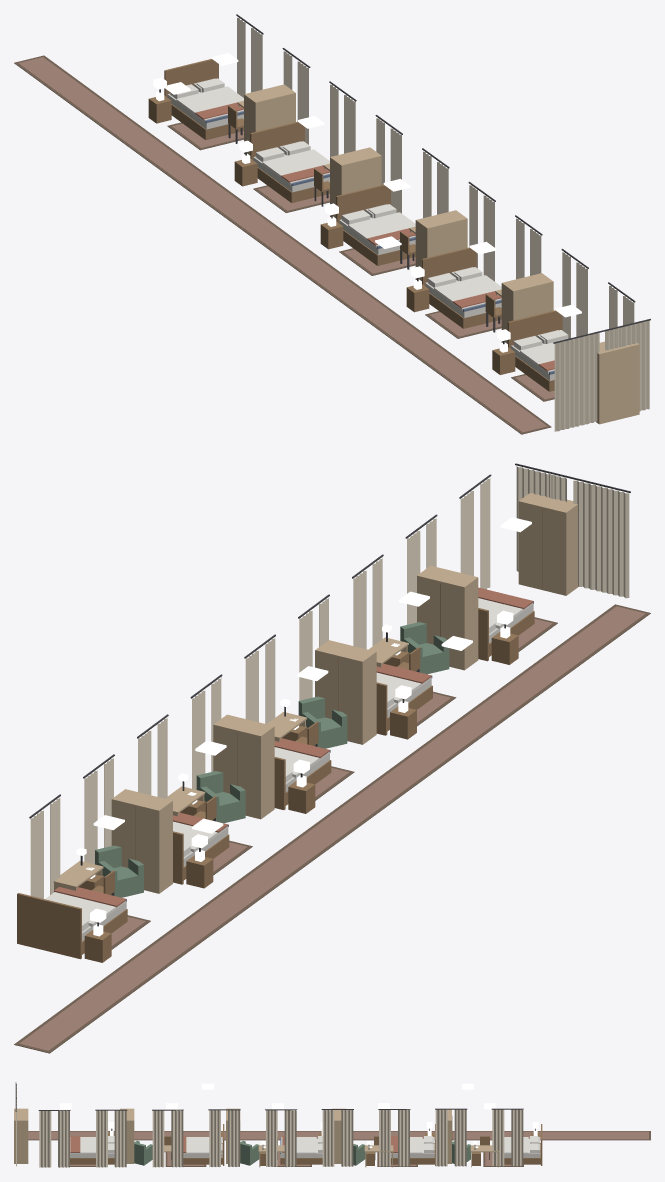
Rendered from fine-s1.glb.
The picture shows the model from 3 angles, top to bottom: view 1: azimuth 30°, elevation 25°; view 2: azimuth 150°, elevation 25°; view 3: azimuth 270°, elevation 25°; orthographic projection. The views are drawn at different scales.
Visible parts, largest first — view 1: soft-s1, dresser.004, bed-frame.003, bed-frame.001, bed-frame.002, bed-frame.000, dresser.002, dresser.003, dresser.001, dresser.000, bed-frame.004, nightstand.002 (+4 smaller); view 2: soft-s1, dresser.004, dresser.002, dresser.001, dresser.000, dresser.003, bed-frame.000, lounge-chair.001, lounge-chair.002, lounge-chair.000, lounge-chair.003, bed-frame.002 (+9 smaller); view 3: soft-s1, dresser.004, dresser.003, bed-frame.001, dresser.001, bed-frame.000, bed-frame.003, lounge-chair.002, lounge-chair.003, bed-frame.002, bed-frame.004, dresser.000 (+6 smaller).
Part boxes in pixels (left/top/right/bottom): soft-s1: left=14, top=14, right=650, bottom=434; dresser.004: left=596, top=341, right=639, bottom=424; bed-frame.003: left=422, top=247, right=501, bottom=328; bed-frame.001: left=250, top=121, right=329, bottom=202; bed-frame.002: left=336, top=184, right=415, bottom=265; bed-frame.000: left=164, top=59, right=243, bottom=139; dresser.002: left=415, top=210, right=467, bottom=280; dresser.003: left=501, top=273, right=553, bottom=343; dresser.001: left=330, top=147, right=381, bottom=218; dresser.000: left=244, top=84, right=295, bottom=155; bed-frame.004: left=507, top=310, right=562, bottom=391; nightstand.002: left=320, top=216, right=343, bottom=249; soft-s1: left=14, top=463, right=650, bottom=1053; dresser.004: left=518, top=493, right=578, bottom=595; dresser.002: left=315, top=640, right=376, bottom=744; dresser.001: left=213, top=714, right=274, bottom=819; dresser.000: left=111, top=789, right=172, bottom=893; dresser.003: left=417, top=565, right=478, bottom=670; bed-frame.000: left=17, top=893, right=127, bottom=959; lounge-chair.001: left=196, top=771, right=245, bottom=823; lounge-chair.002: left=298, top=696, right=347, bottom=748; lounge-chair.000: left=95, top=845, right=143, bottom=897; lounge-chair.003: left=400, top=622, right=449, bottom=674; bed-frame.002: left=274, top=750, right=331, bottom=809; soft-s1: left=15, top=1082, right=650, bottom=1167; dresser.004: left=14, top=1108, right=28, bottom=1163; dresser.003: left=120, top=1108, right=134, bottom=1163; bed-frame.001: left=391, top=1124, right=435, bottom=1165; dresser.001: left=332, top=1108, right=345, bottom=1163; bed-frame.000: left=504, top=1124, right=542, bottom=1165; bed-frame.003: left=183, top=1124, right=224, bottom=1165; lounge-chair.002: left=240, top=1140, right=259, bottom=1165; lounge-chair.003: left=134, top=1140, right=152, bottom=1165; bed-frame.002: left=280, top=1137, right=322, bottom=1164; bed-frame.004: left=70, top=1143, right=114, bottom=1164; dresser.000: left=442, top=1109, right=452, bottom=1163.
Size of the model in its own units: 3.72 by 2.71 by 26.67.
